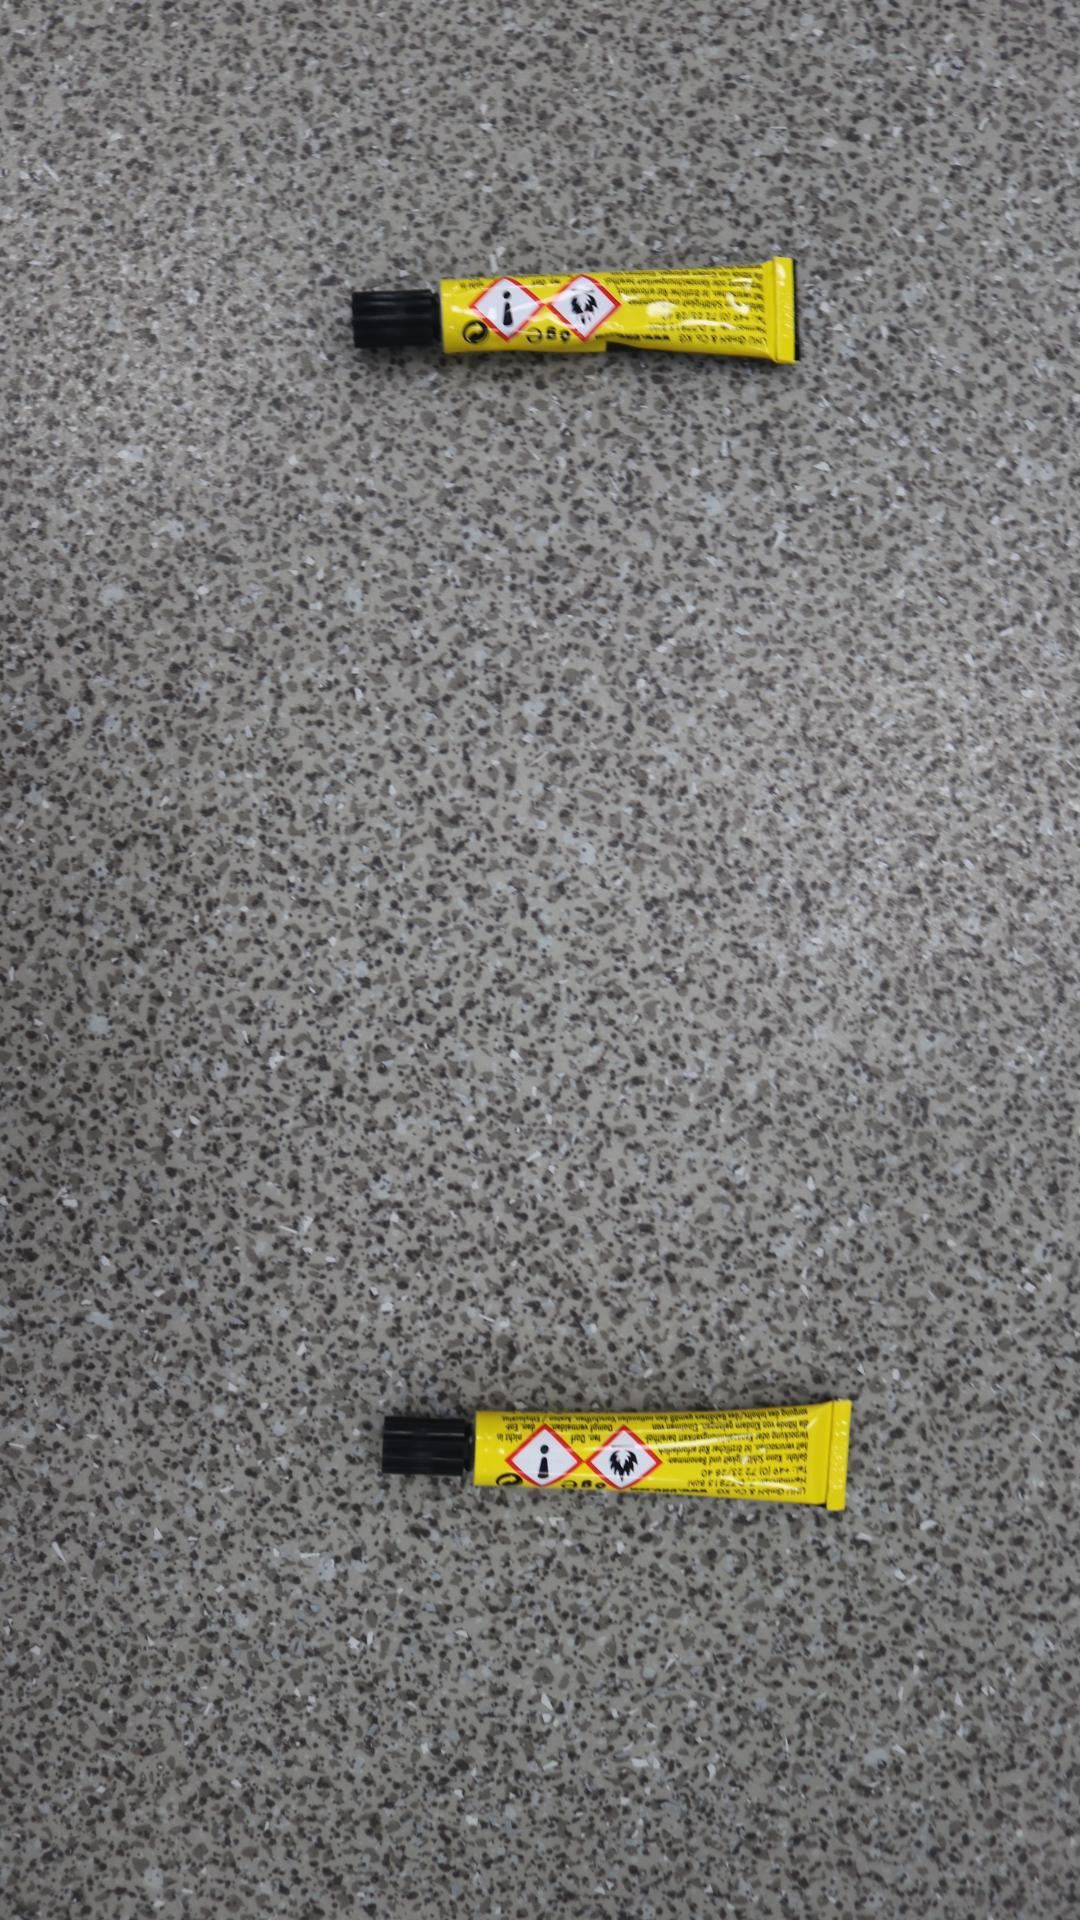Head: (420, 1441, 430, 1451), (393, 310, 399, 317)
Tail: (835, 1456, 844, 1465), (782, 305, 788, 313)
Tube: (382, 1397, 852, 1513), (351, 256, 803, 365)
